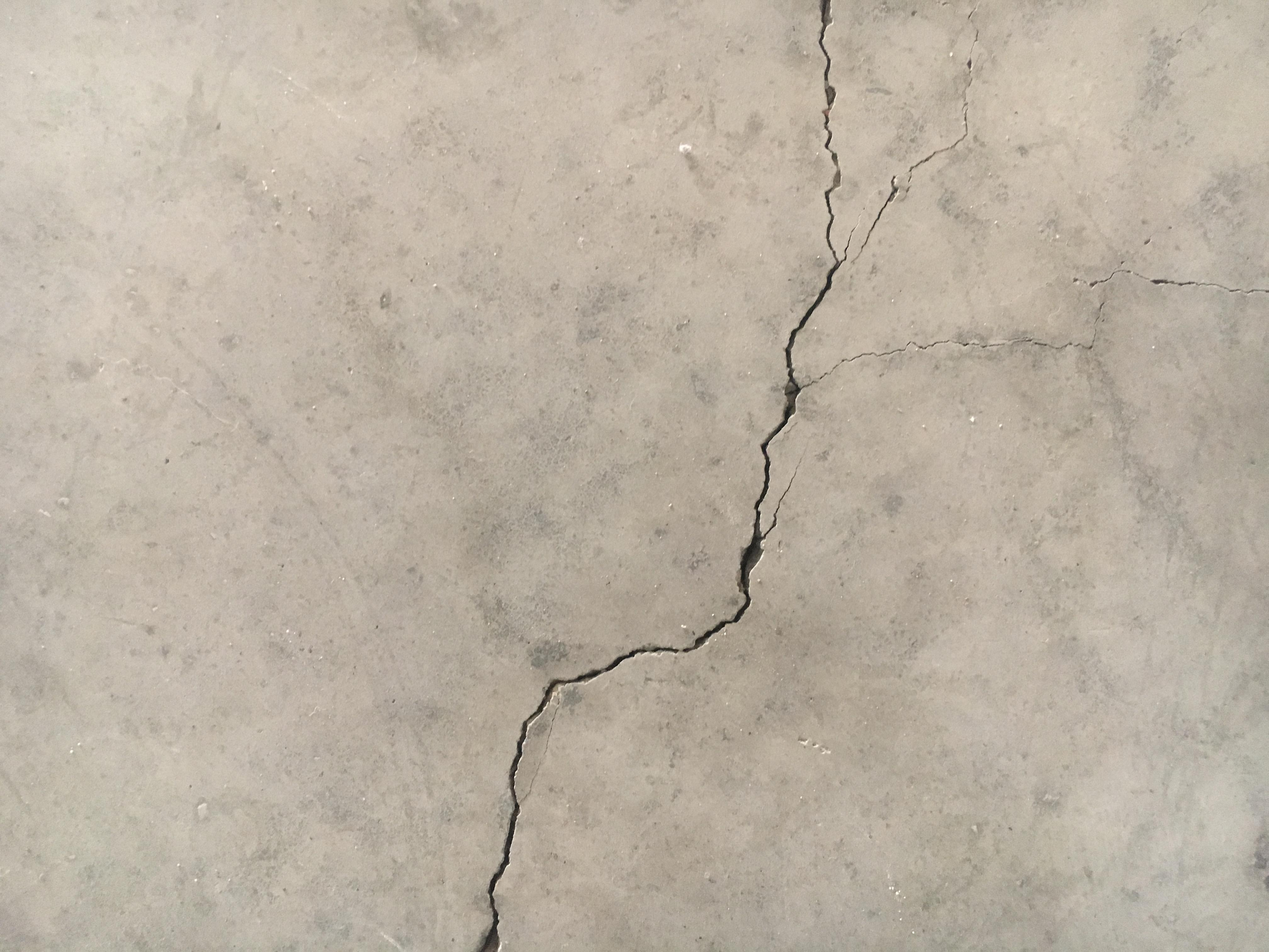Hairline-Crack: (802, 267, 1269, 388), (851, 69, 971, 266), (967, 4, 979, 68)
Vertical Crack: (477, 0, 878, 948)
